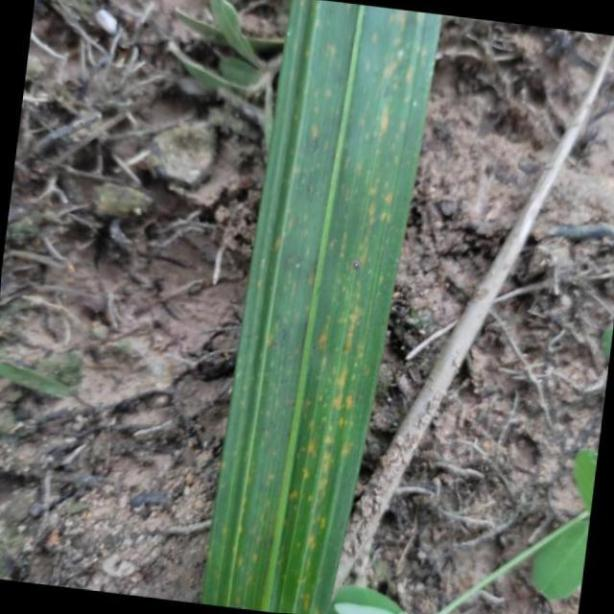Kalium: (200, 0, 446, 614)
